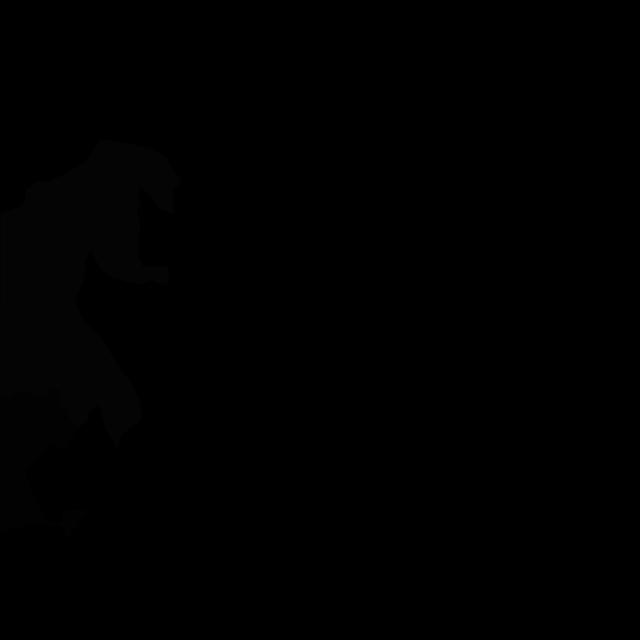cardboard: (0, 388, 87, 541)
soft_plastic: (0, 139, 181, 450)
